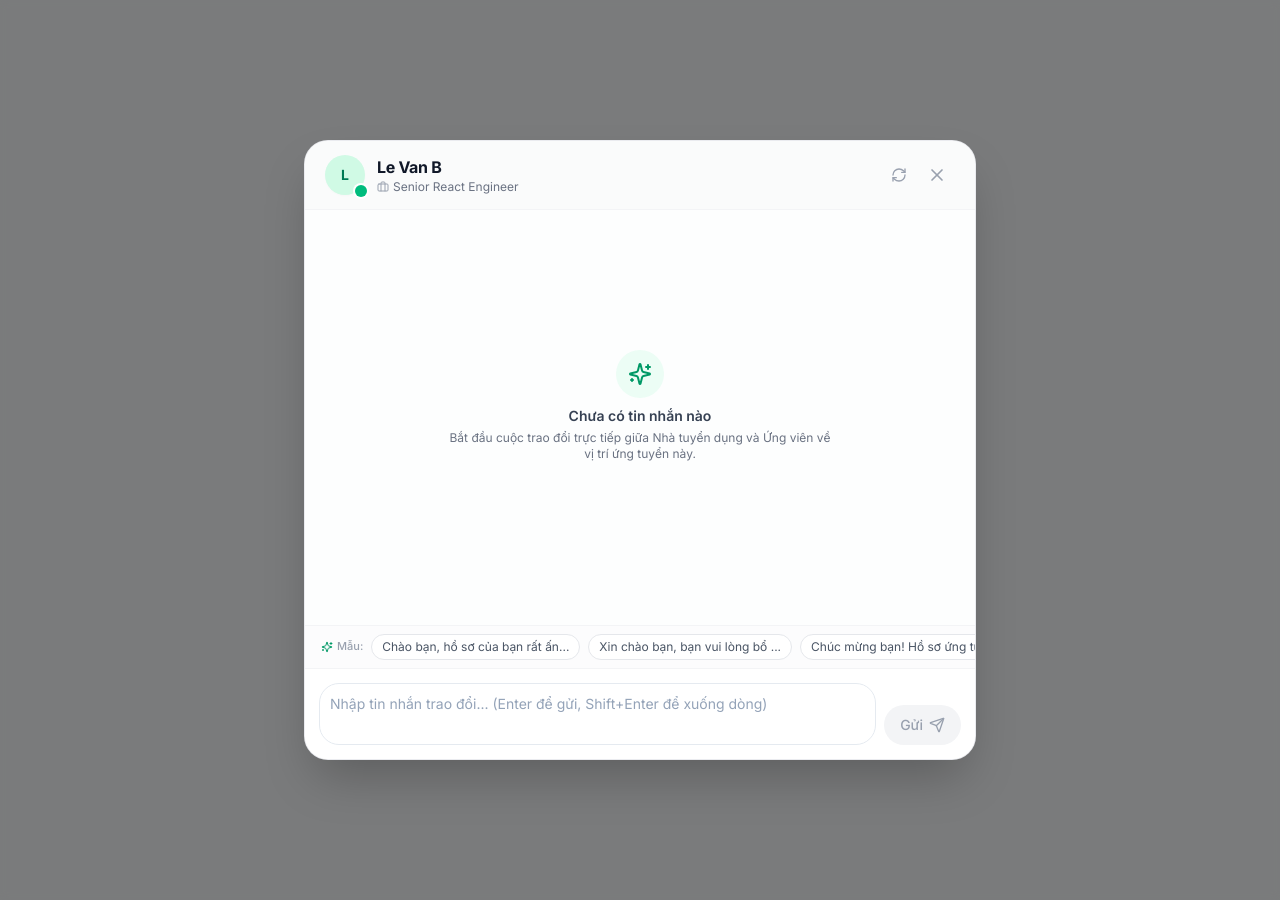
DirectChatModal › allows typing and sending a message
(page scrolled)
Type "Chào bạn, mời bạn tham gia phỏng vấn." into the text box with placeholder "Nhập tin nhắn trao đổi" at point(598, 714), box [319,683,876,745]
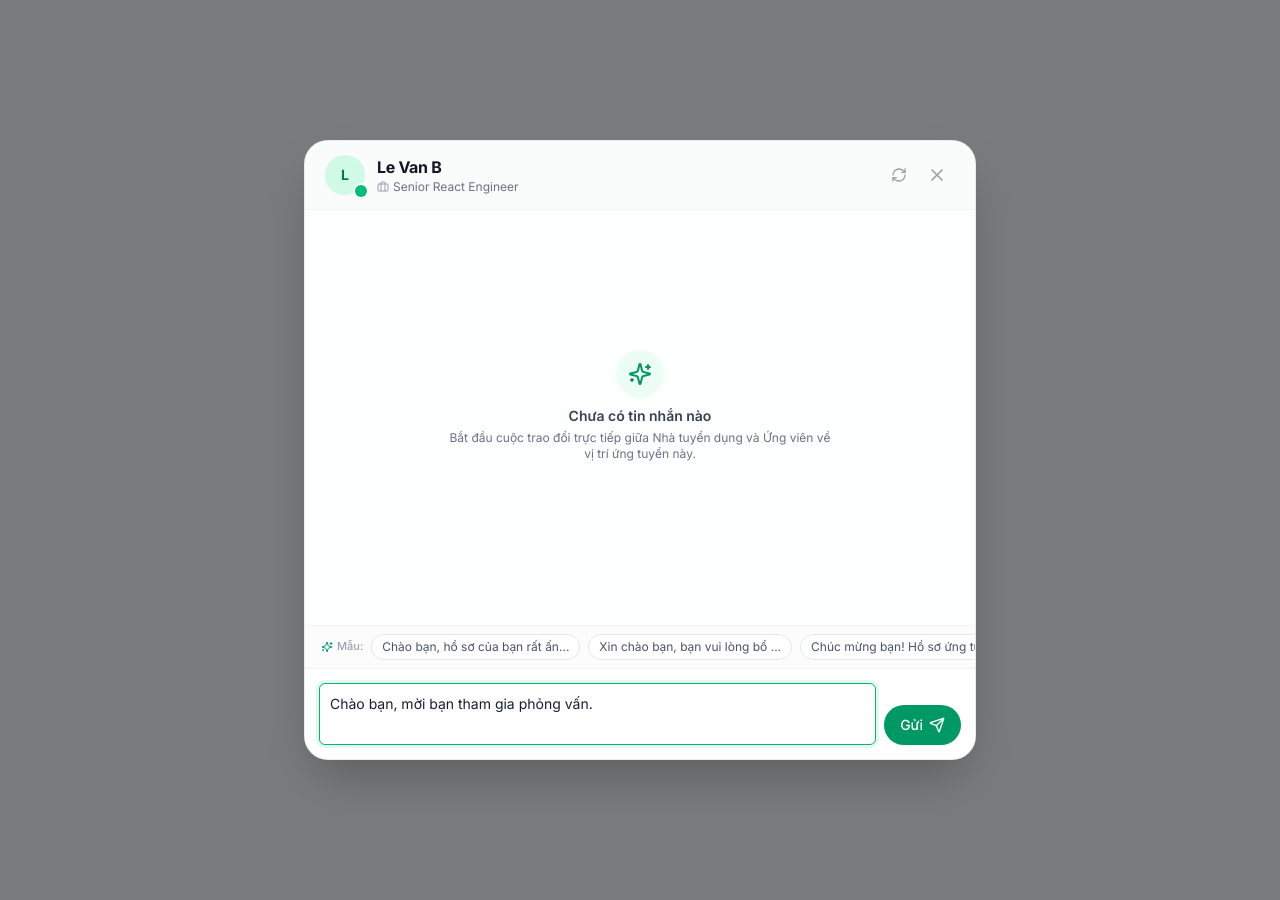
Click the button "Gửi" at point(923, 725), box [884,705,961,745]
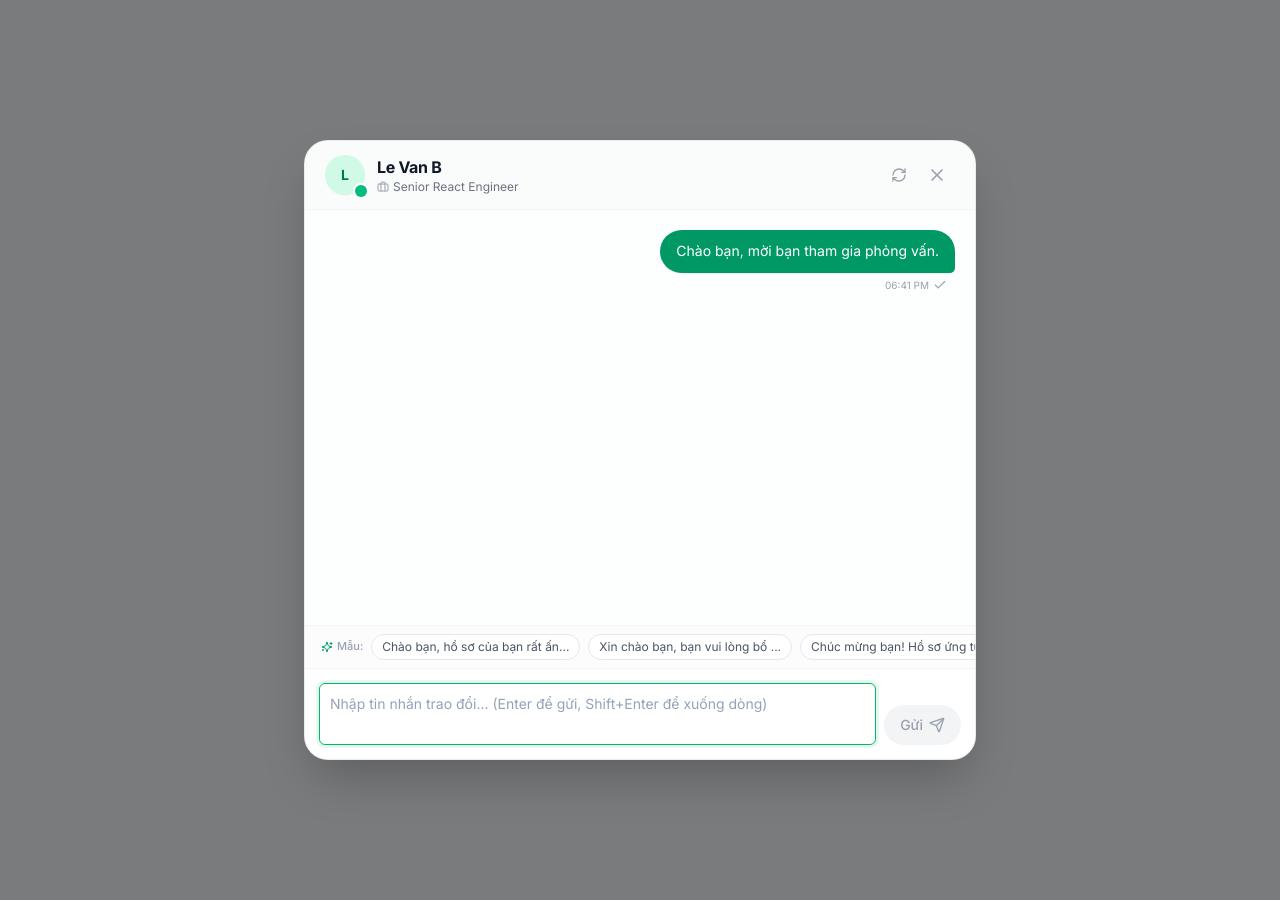
Check: the text "Chào bạn, mời bạn tham gia phỏng vấn." is shown, box [676,240,939,263]
